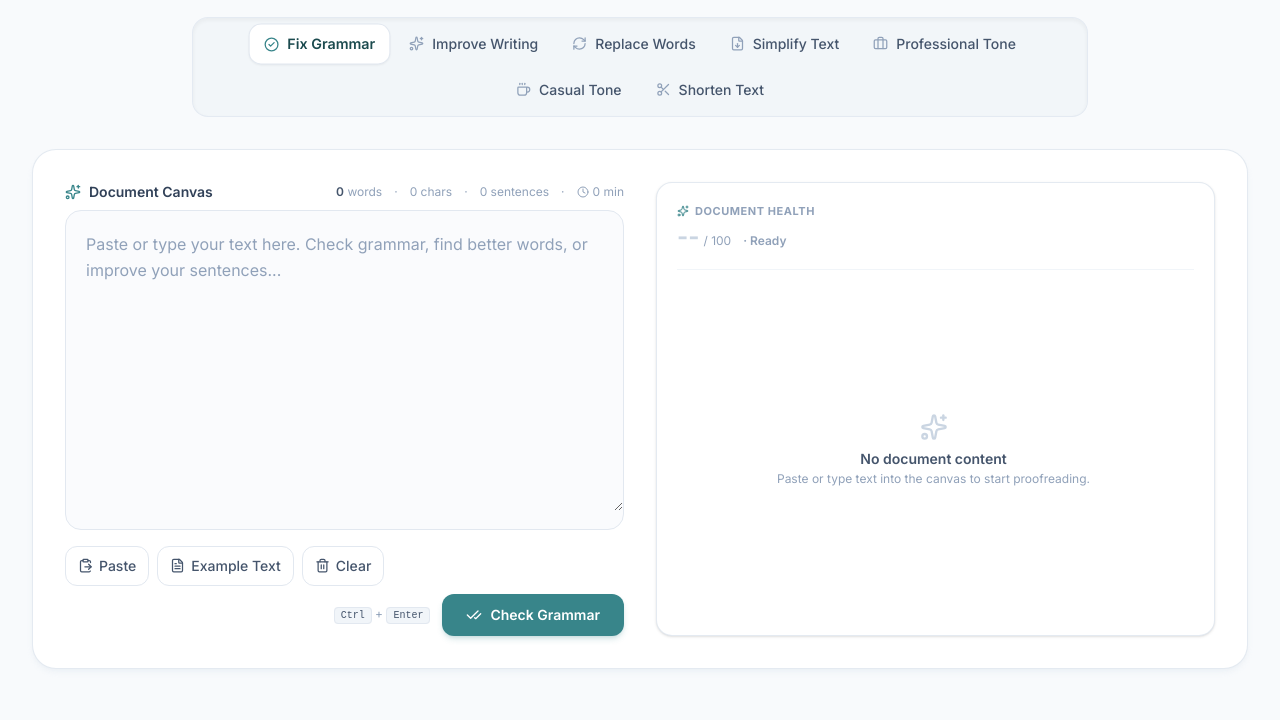
Test: React Components › WritingEditor component › clears text when "Clear" button is clicked
(page scrolled)
Replace the text in the text box named "Original text input" with "Some sample text" at (344, 360), box x1=66 y1=210 x2=623 y2=510
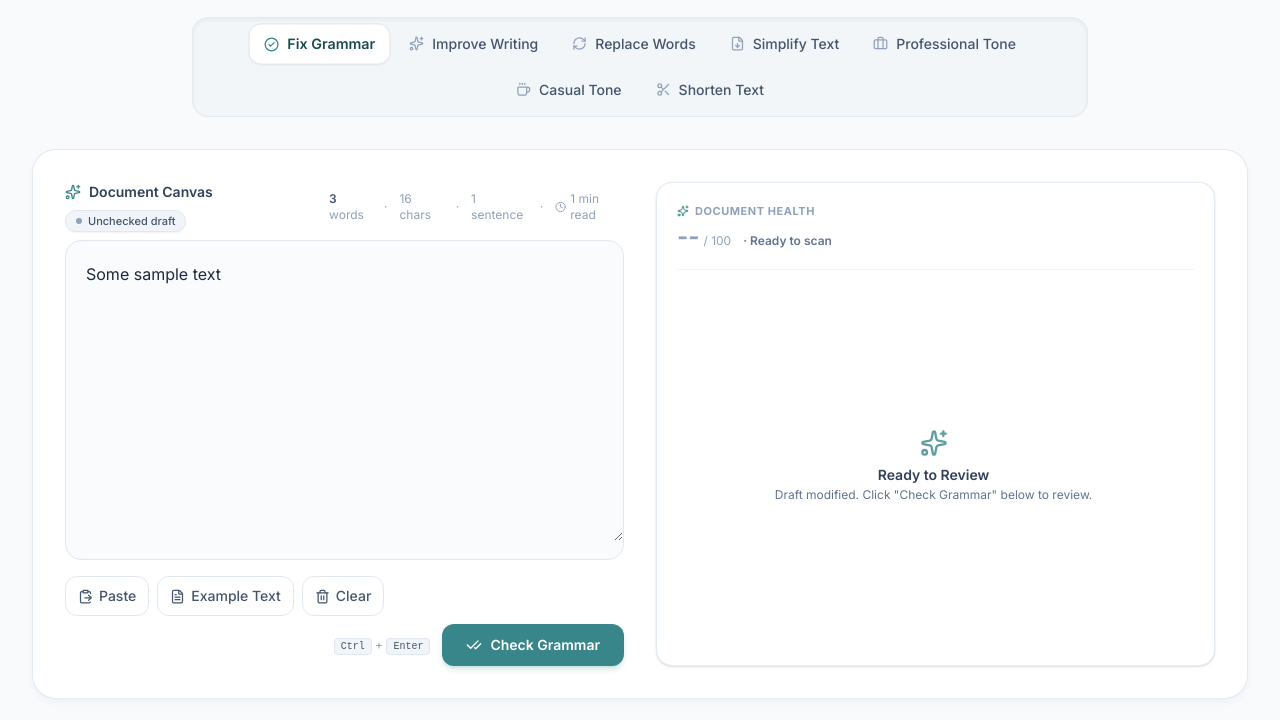
Click the button "Clear".
click(343, 596)  # box x1=302 y1=576 x2=384 y2=616
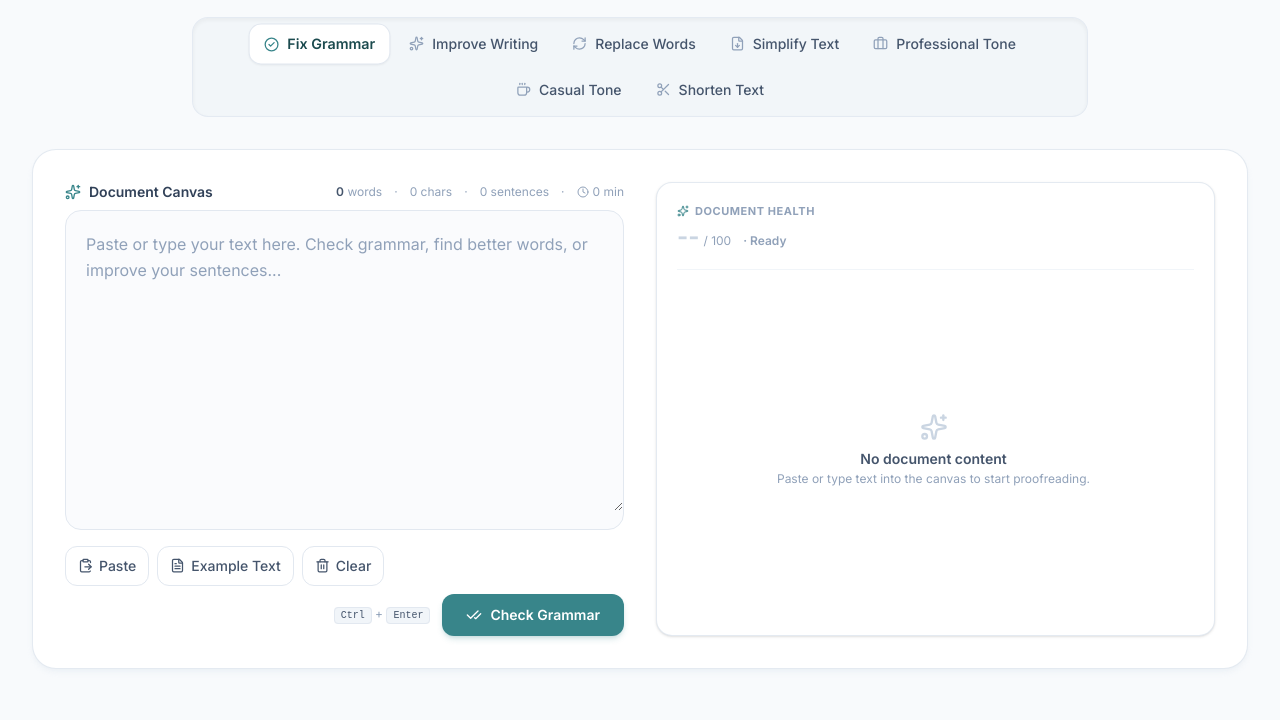
Check: the text box named "Original text input" is empty, box x1=66 y1=210 x2=623 y2=510
